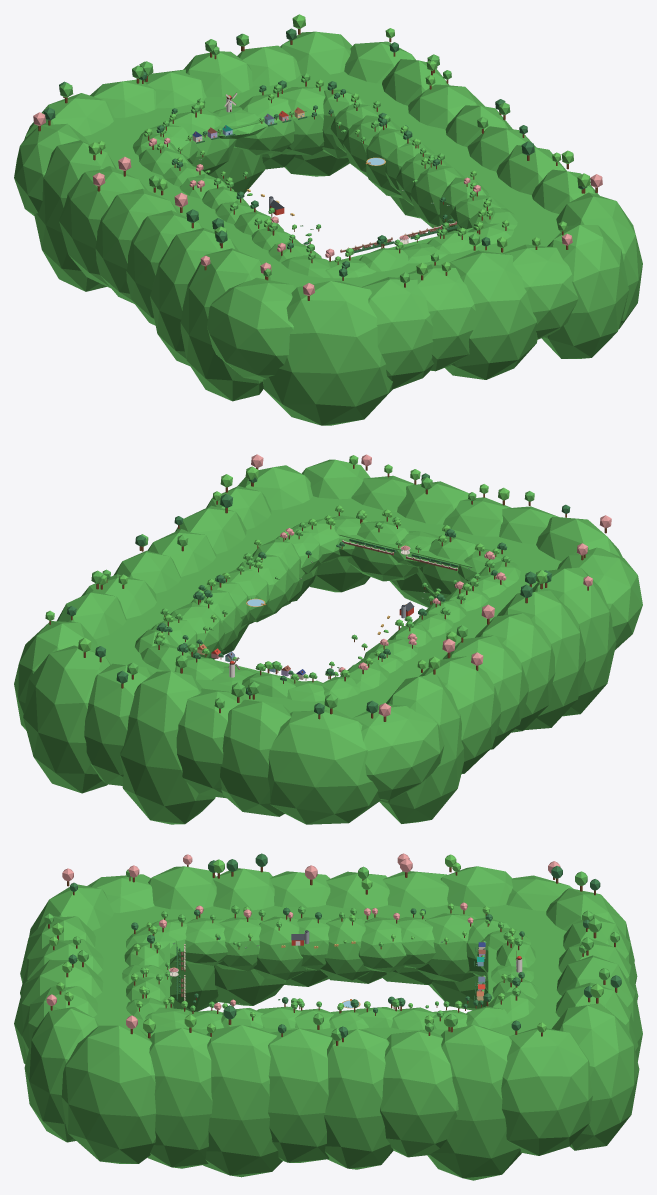
The model's file is CatCafe_Town_Backdrop.glb.
The picture shows the model from 3 angles, top to bottom: view 1: azimuth 30°, elevation 25°; view 2: azimuth 150°, elevation 25°; view 3: azimuth 270°, elevation 25°; orthographic projection.
Parts seen in each view (by area): view 1: CatCafe_Town_Backdrop_HillsFar, CatCafe_Town_Backdrop_Hills, CatCafe_Town_Backdrop_Ground, CatCafe_Town_Backdrop; view 2: CatCafe_Town_Backdrop_HillsFar, CatCafe_Town_Backdrop_Hills, CatCafe_Town_Backdrop_Ground, CatCafe_Town_Backdrop; view 3: CatCafe_Town_Backdrop_HillsFar, CatCafe_Town_Backdrop_Hills, CatCafe_Town_Backdrop_Ground, CatCafe_Town_Backdrop.
Boxes of the visible parts, bbox=[...] form: CatCafe_Town_Backdrop_HillsFar: bbox=[14, 31, 642, 425]; CatCafe_Town_Backdrop_Hills: bbox=[133, 87, 517, 278]; CatCafe_Town_Backdrop_Ground: bbox=[84, 71, 560, 287]; CatCafe_Town_Backdrop: bbox=[33, 14, 602, 300]; CatCafe_Town_Backdrop_HillsFar: bbox=[14, 459, 642, 824]; CatCafe_Town_Backdrop_Hills: bbox=[135, 515, 520, 701]; CatCafe_Town_Backdrop_Ground: bbox=[95, 496, 561, 718]; CatCafe_Town_Backdrop: bbox=[45, 454, 611, 721]; CatCafe_Town_Backdrop_HillsFar: bbox=[14, 866, 642, 1180]; CatCafe_Town_Backdrop_Hills: bbox=[122, 913, 537, 1029]; CatCafe_Town_Backdrop_Ground: bbox=[93, 904, 566, 1038]; CatCafe_Town_Backdrop: bbox=[44, 853, 621, 1045].
Size of the model in its own units: 617 by 243 by 807.
1 material, 1 textured.
